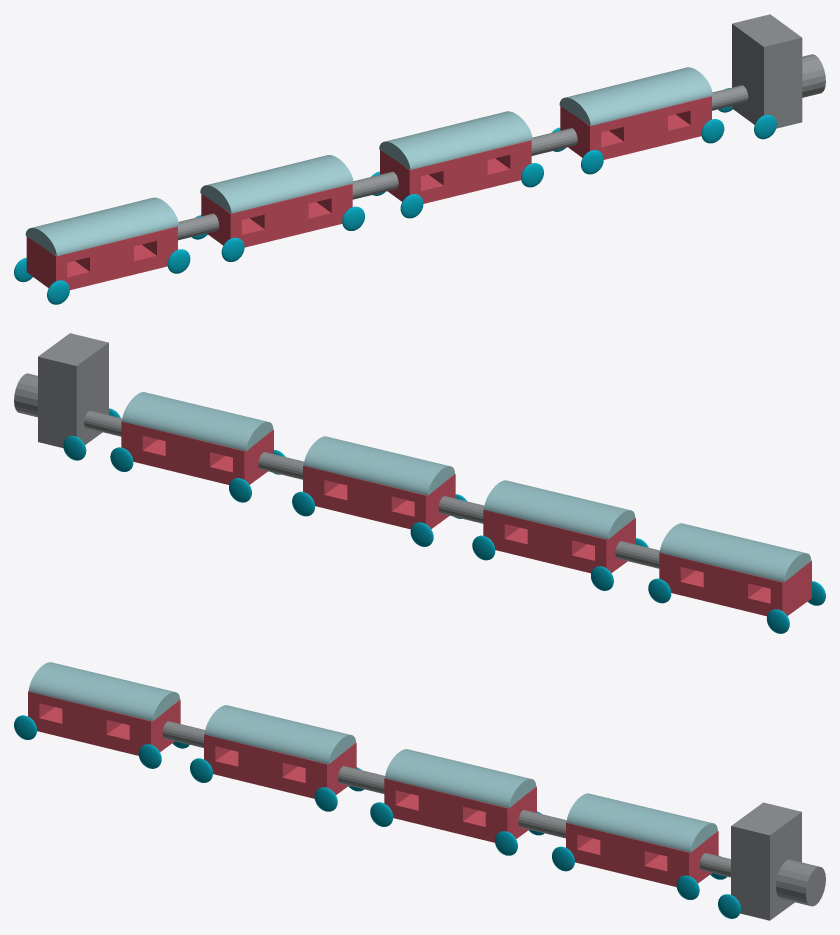
Rendered from simple_train.glb.
The picture shows the model from 3 angles, top to bottom: view 1: azimuth 30°, elevation 25°; view 2: azimuth 150°, elevation 25°; view 3: azimuth 330°, elevation 25°; orthographic projection.
Visible parts, largest first — view 1: Mesh_Mesh_head_geo.001_lambert2SG.001; view 2: Mesh_Mesh_head_geo.001_lambert2SG.001; view 3: Mesh_Mesh_head_geo.001_lambert2SG.001.
Boxes of the visible parts, x1,y1,x2,y2 form: Mesh_Mesh_head_geo.001_lambert2SG.001: [14, 14, 825, 304]; Mesh_Mesh_head_geo.001_lambert2SG.001: [14, 333, 825, 633]; Mesh_Mesh_head_geo.001_lambert2SG.001: [14, 662, 825, 920].
Size of the model in its own units: 551 by 61 by 51.
